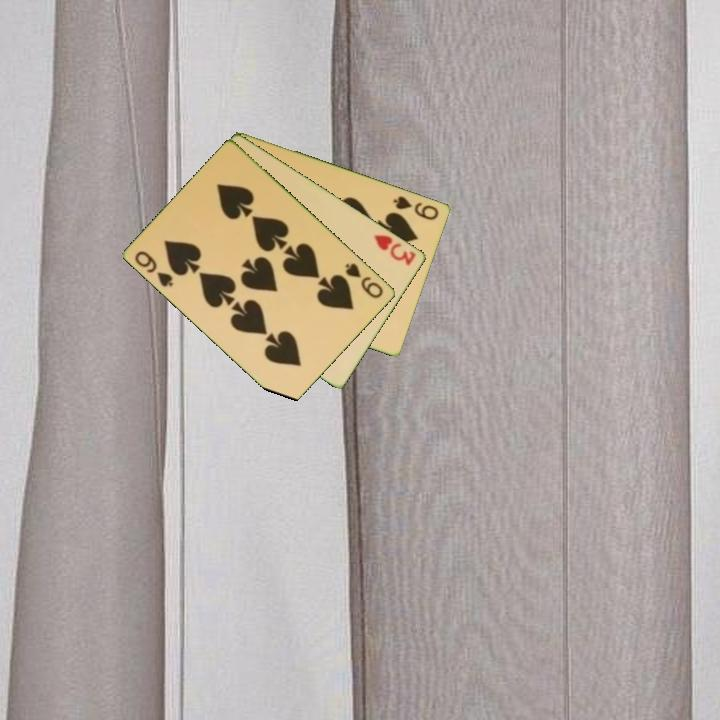3h: (370, 231, 419, 269)
9s: (132, 247, 177, 290), (342, 259, 386, 301), (390, 192, 442, 223)
